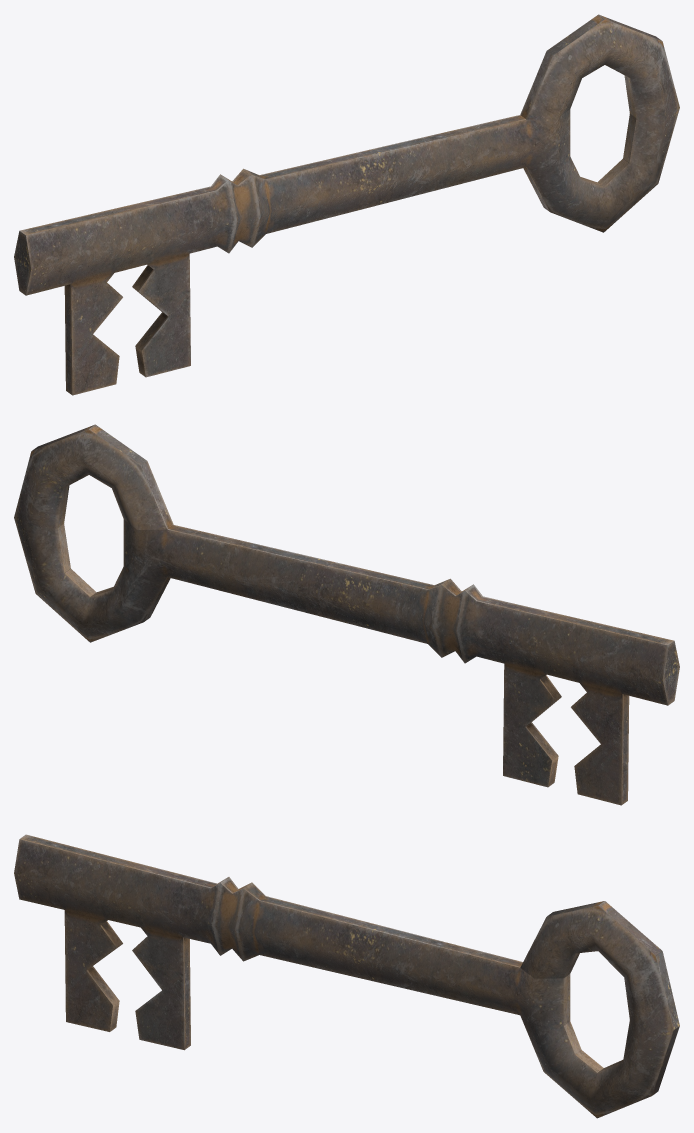
The model's file is door_key.glb.
3 views of the same model, one above another, from view 1: azimuth 30°, elevation 25°; view 2: azimuth 150°, elevation 25°; view 3: azimuth 330°, elevation 25° (orthographic).
Parts seen in each view (by area): view 1: Key_LP; view 2: Key_LP; view 3: Key_LP.
Part boxes in pixels (left/top/right/bottom): Key_LP: left=14, top=14, right=679, bottom=395; Key_LP: left=14, top=424, right=679, bottom=805; Key_LP: left=14, top=834, right=679, bottom=1118.
Size of the model in its own units: 2 by 0.7199 by 0.1226.
Materials: 1 (1 with a texture image).
